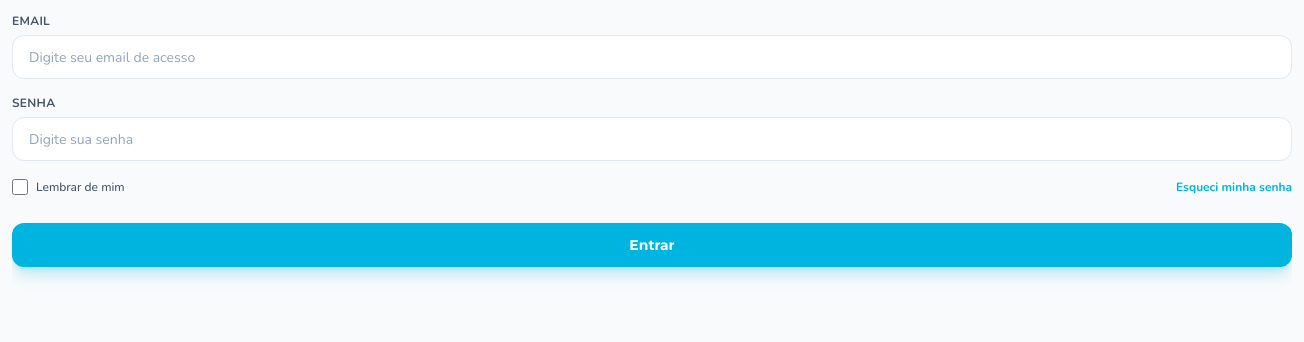
LoginForm › campos inválidos exibem erro de validação inline
Click the button "Entrar".
click(652, 245)  # box [12,223,1292,267]
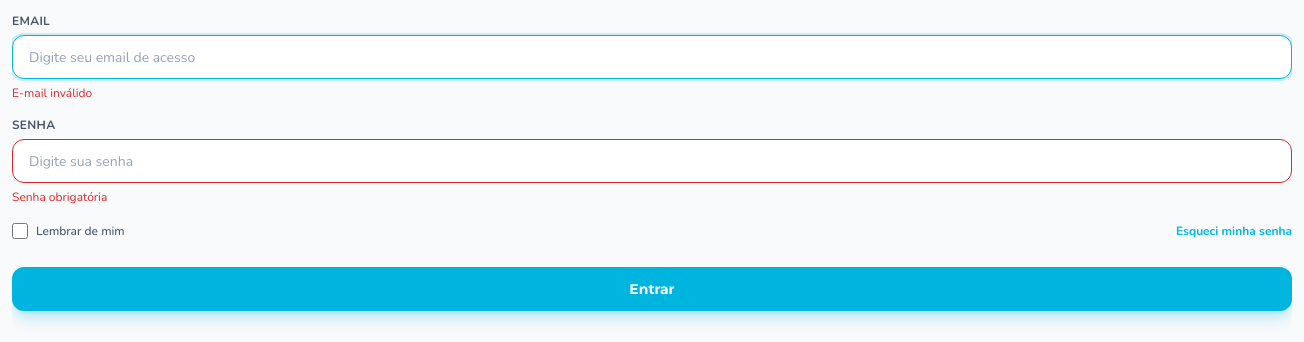
expect the text "E-mail inválido" is shown: met, box [12,85,92,101]
expect the text "Senha obrigatória" is shown: met, box [12,189,107,205]
